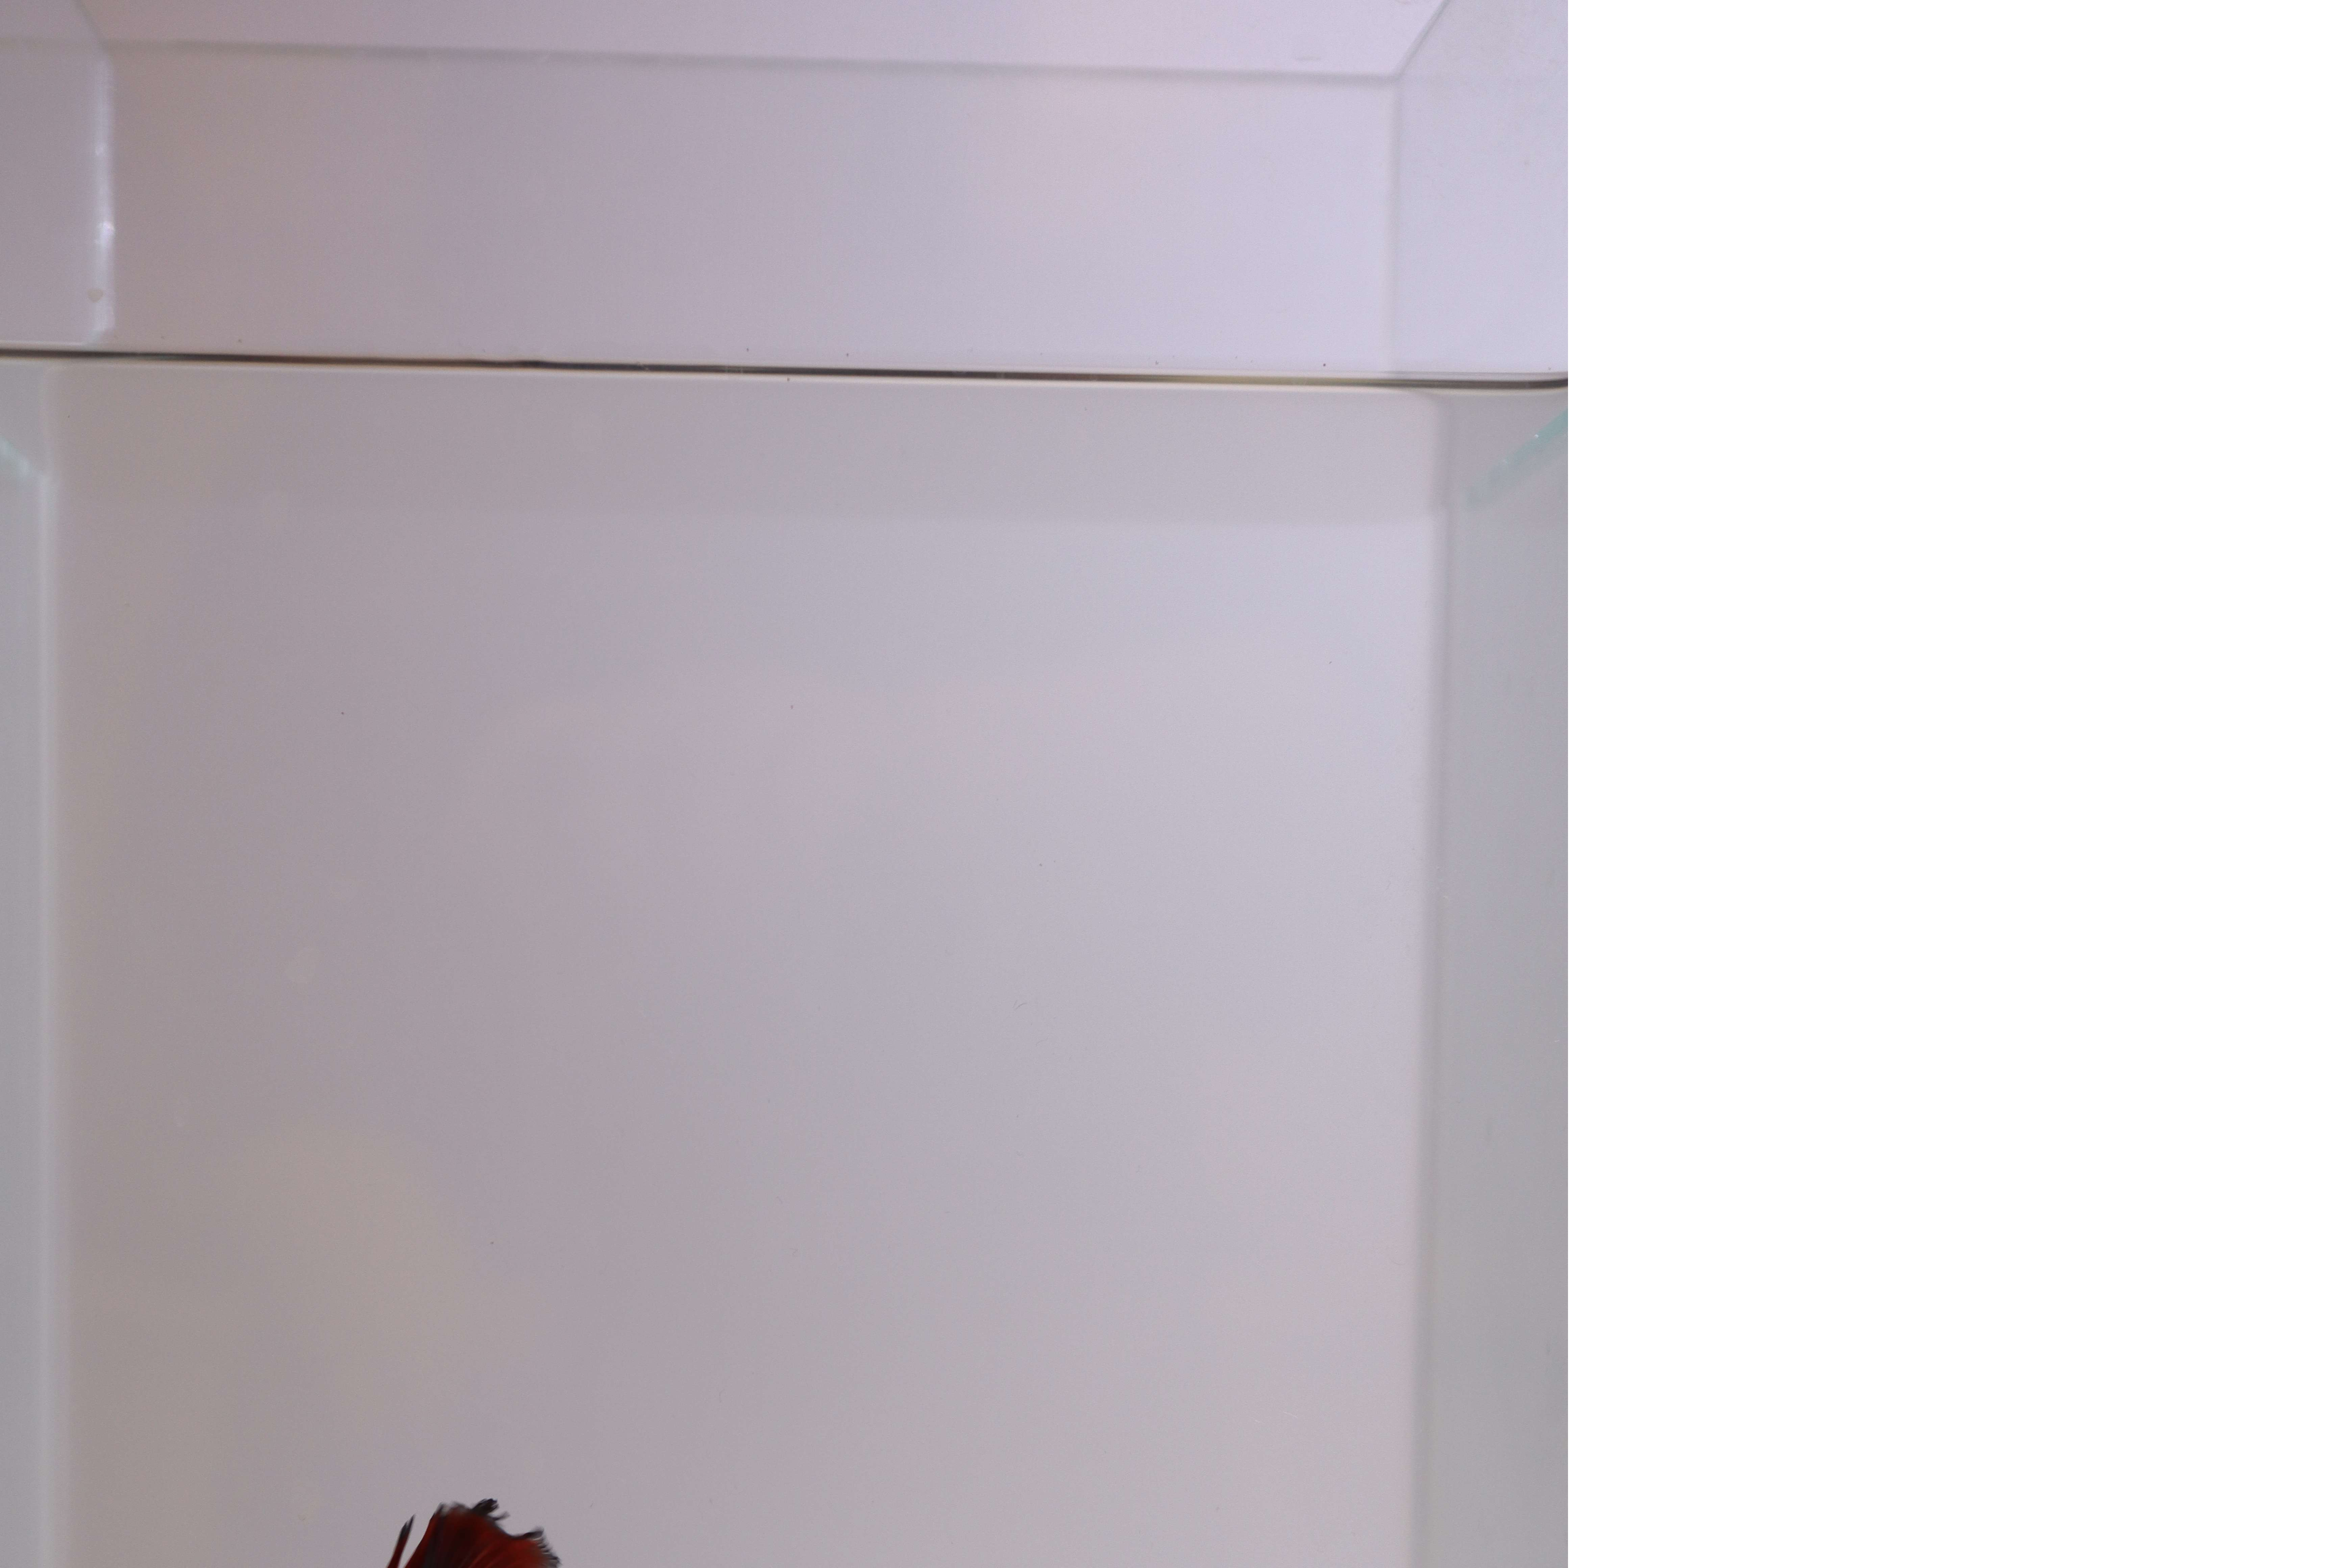fish: (369, 1477, 570, 1568)
